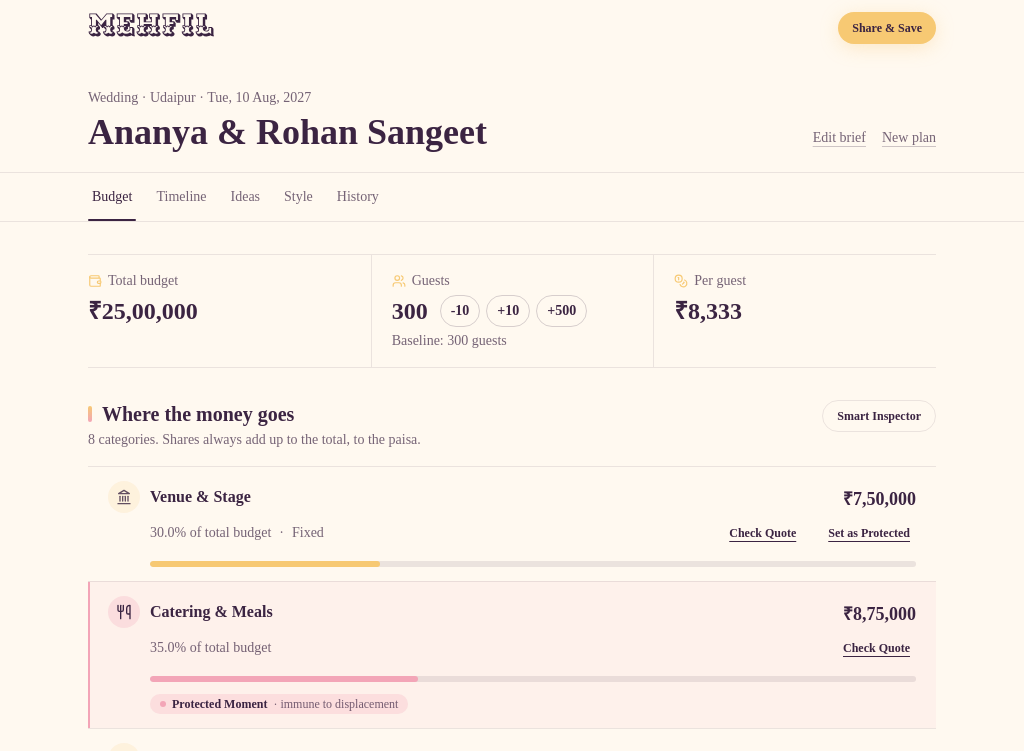
Test: WorkspaceShell Component › lists plan changes on the History tab
The image size is (1024, 751).
Click the tab "History" at (358, 197), box [333, 173, 383, 221]
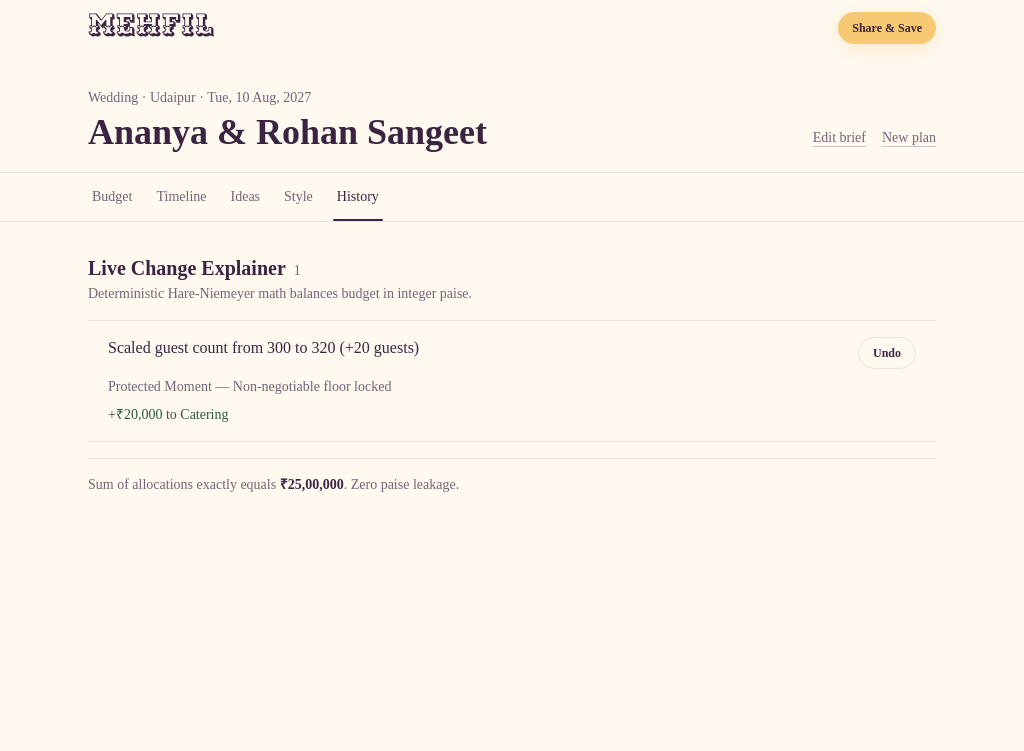
Expected: the text "Scaled guest count from 300 to 320 (+20 guests)" is shown, [108, 337, 419, 359]
